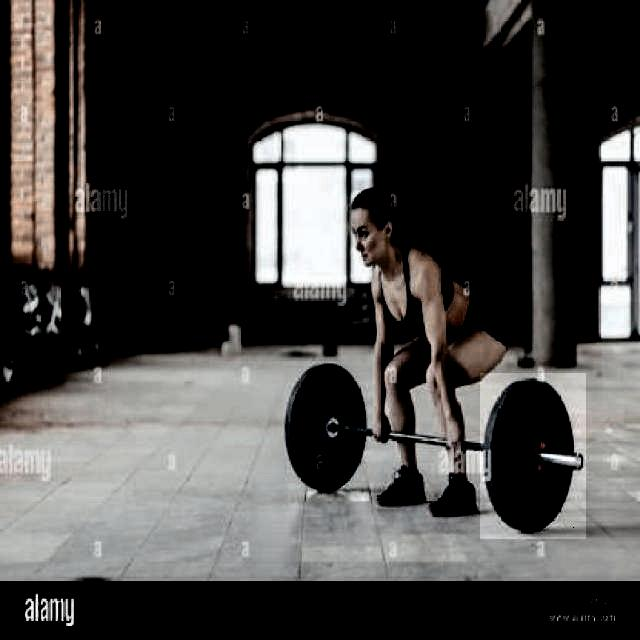barbell: (480, 374, 587, 540)
